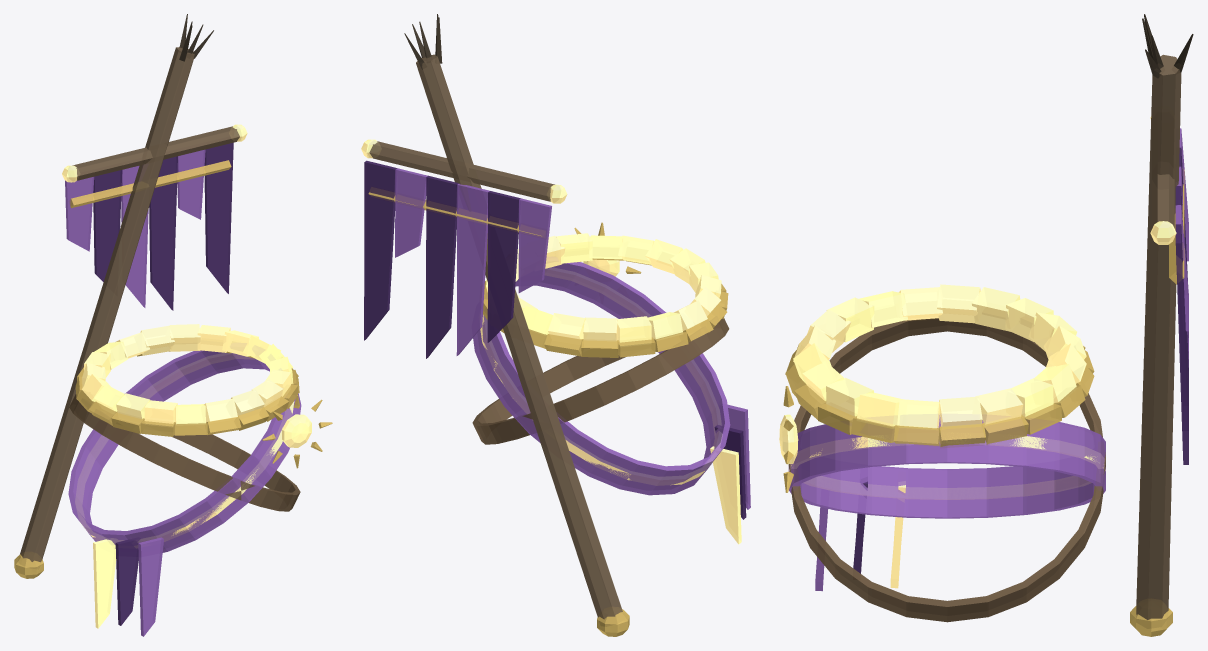
File: last_marshal_mantle.glb
3 renders of one model, left to right at view 1: azimuth 30°, elevation 25°; view 2: azimuth 150°, elevation 25°; view 3: azimuth 270°, elevation 25°, orthographic. The views are drawn at different scales.
Visible parts, largest first — view 1: last_marshal_mantle; view 2: last_marshal_mantle; view 3: last_marshal_mantle.
Part boxes in pixels (left/top/right/bottom): last_marshal_mantle: left=14, top=14, right=332, bottom=636; last_marshal_mantle: left=361, top=14, right=750, bottom=636; last_marshal_mantle: left=779, top=14, right=1193, bottom=636.
Size of the model in its own units: 1.05 by 2.14 by 1.1.
